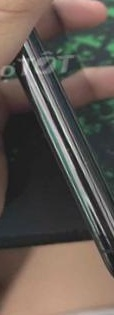scratch: (59, 136, 97, 177)
